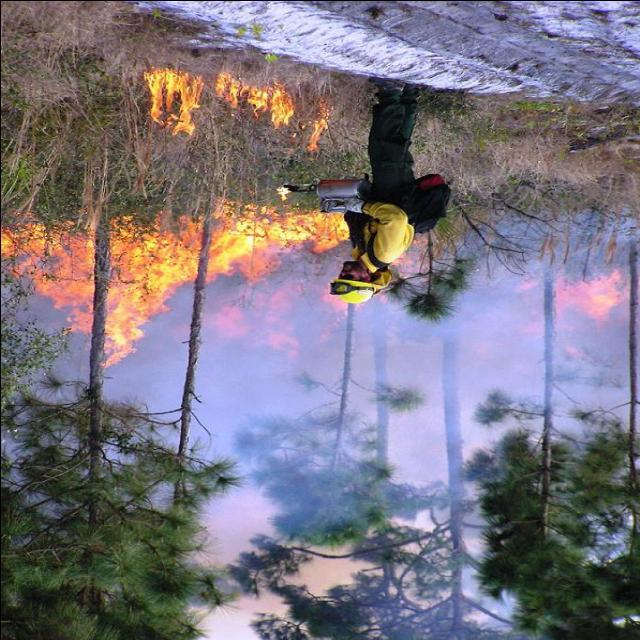Fire: (24, 205, 348, 358), (152, 68, 342, 162), (511, 266, 625, 344)
